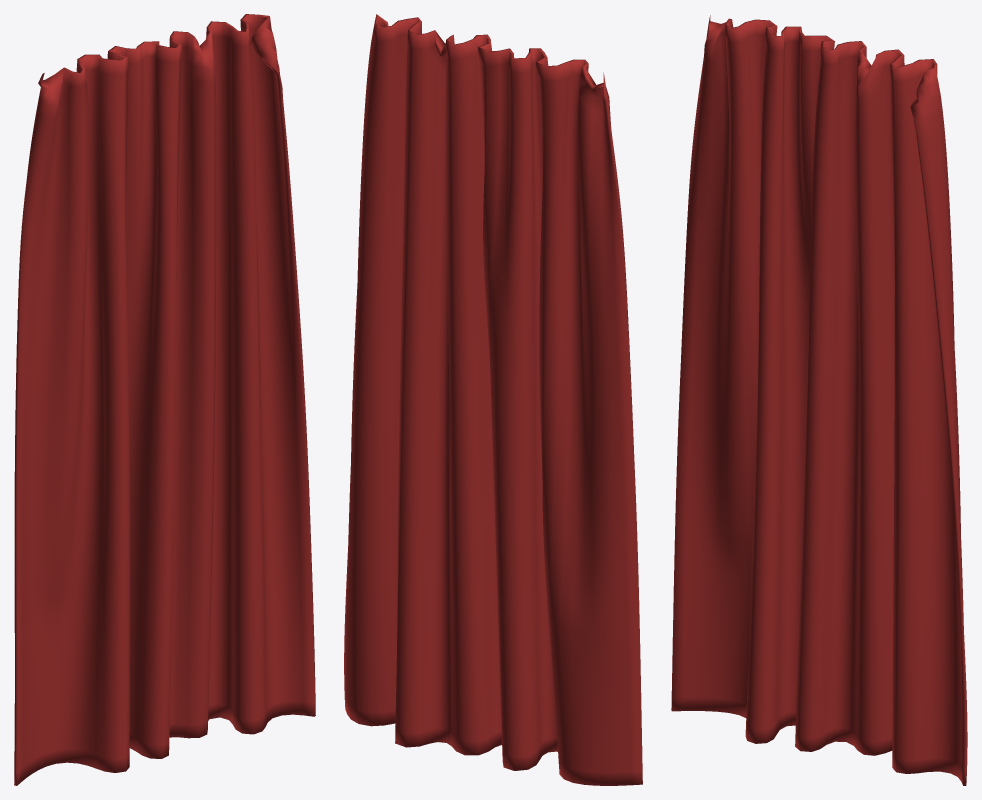
File: curtainStatic.fbx
3 renders of one model, left to right at view 1: azimuth 30°, elevation 25°; view 2: azimuth 150°, elevation 25°; view 3: azimuth 330°, elevation 25°, orthographic.
Visible parts, largest first — view 1: Plane; view 2: Plane; view 3: Plane.
Part boxes in pixels (left/top/right/bottom): Plane: left=14, top=14, right=315, bottom=785; Plane: left=344, top=14, right=642, bottom=785; Plane: left=671, top=15, right=967, bottom=785.
Bounding box in the file's own units: 160 × 361 × 32.01.
